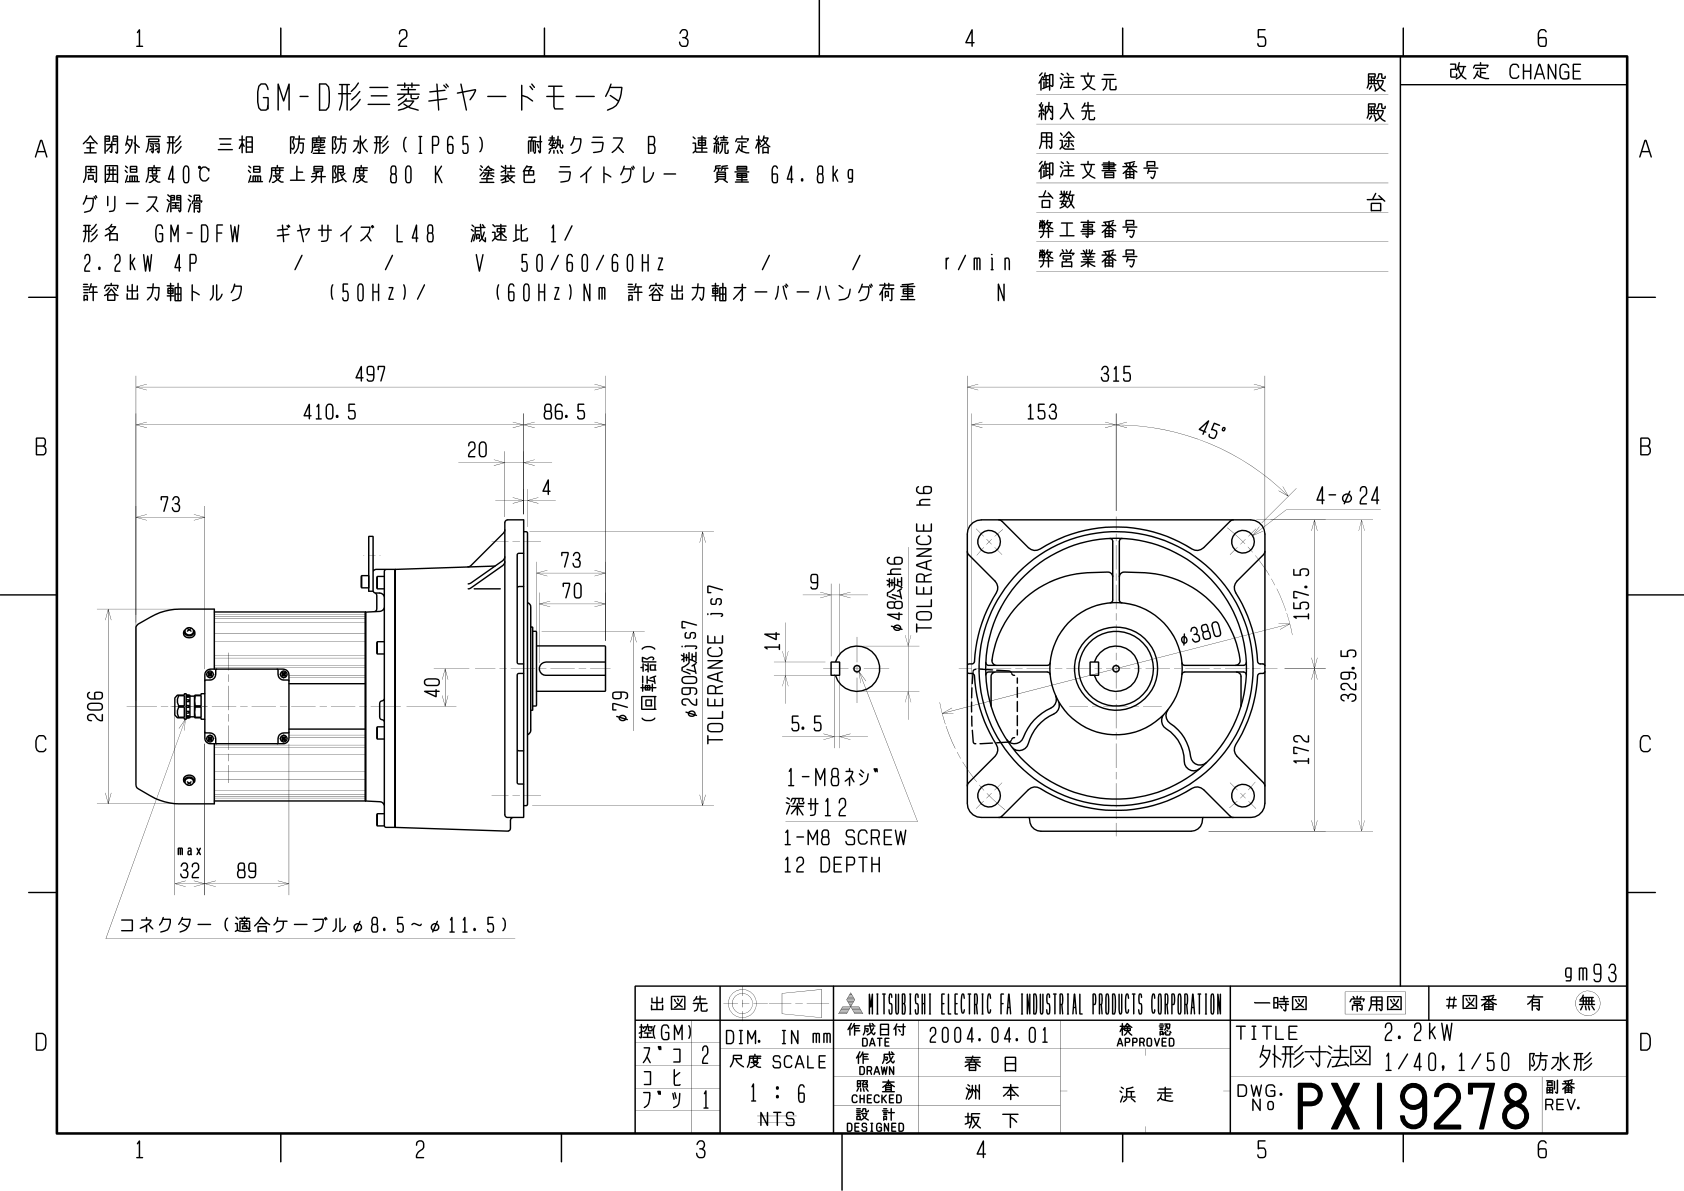GM_D_IP65_三相_フランジ: (67, 349, 1399, 973)
